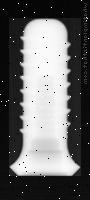Blue Sky Bio: (9, 18, 81, 176)
